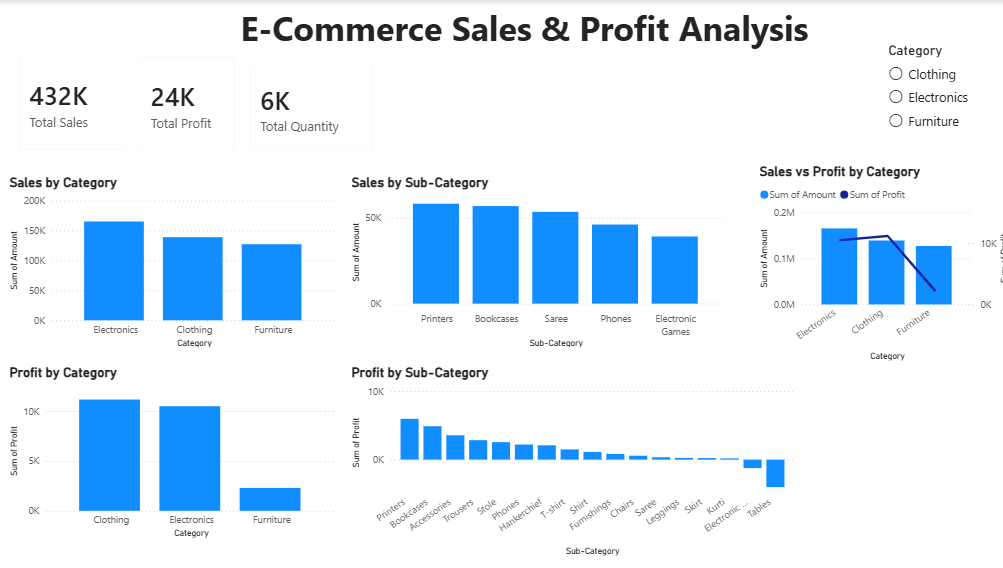

Layout of this report page (visuals, bound fields, positions):
{"tool":"powerbi","page":{"name":"Page 1","canvas":[1280,720],"ordinal":0},"visuals":[{"type":"cardVisual","fields":{"Data":["Sum(Order Details.Amount)"]},"box":[9.4,52.9,177.6,153.1],"z":0},{"type":"cardVisual","fields":{"Data":["Sum(Order Details.Profit)"]},"box":[162.5,54.8,153.1,153.1],"z":1000},{"type":"cardVisual","fields":{"Data":["Sum(Order Details.Quantity)"]},"box":[300.5,64.3,189,143.6],"z":2000},{"type":"clusteredColumnChart","title":"Sales by Category","fields":{"Category":["Order Details.Category"],"Y":["Sum(Order Details.Amount)"]},"box":[9.4,219.2,421.4,223],"z":3000},{"type":"clusteredColumnChart","title":"Profit by Category","fields":{"Category":["Order Details.Category"],"Y":["Sum(Order Details.Profit)"]},"box":[9,459.5,421,223],"z":4000},{"type":"clusteredColumnChart","title":"Sales by Sub-Category","fields":{"Category":["Order Details.Sub-Category"],"Y":["Sum(Order Details.Amount)"]},"box":[440.3,219.2,478.1,223],"z":5000},{"type":"clusteredColumnChart","title":"Profit by Sub-Category","fields":{"Category":["Order Details.Sub-Category"],"Y":["Sum(Order Details.Profit)"]},"box":[440.3,459.2,566.9,245.7],"z":6000},{"type":"lineClusteredColumnComboChart","title":"Sales vs Profit by Category","fields":{"Category":["Order Details.Category"],"Y":["Sum(Order Details.Amount)"],"Y2":["Sum(Order Details.Profit)"]},"box":[954.3,206,325,253.2],"z":7000},{"type":"listSlicer","fields":{"Values":["Order Details.Category"]},"box":[1116.9,52.9,138,122.8],"z":8000},{"type":"textbox","box":[300.5,0,757.8,71.8],"z":9000}]}

Visuals, with their boxes in screenshot pixels (x1, y1, x2, y2), scaled from the page's 1280x720 canvas onto the 1003x568 screenshot:
cardVisual - Sum(Order Details.Amount): [x1=7, y1=42, x2=147, y2=163]
cardVisual - Sum(Order Details.Profit): [x1=127, y1=43, x2=247, y2=164]
cardVisual - Sum(Order Details.Quantity): [x1=235, y1=51, x2=384, y2=164]
"Sales by Category" clusteredColumnChart: [x1=7, y1=173, x2=338, y2=349]
"Profit by Category" clusteredColumnChart: [x1=7, y1=362, x2=337, y2=538]
"Sales by Sub-Category" clusteredColumnChart: [x1=345, y1=173, x2=720, y2=349]
"Profit by Sub-Category" clusteredColumnChart: [x1=345, y1=362, x2=789, y2=556]
"Sales vs Profit by Category" lineClusteredColumnComboChart: [x1=748, y1=163, x2=1002, y2=362]
listSlicer - Order Details.Category: [x1=875, y1=42, x2=983, y2=139]
textbox: [x1=235, y1=0, x2=829, y2=57]
